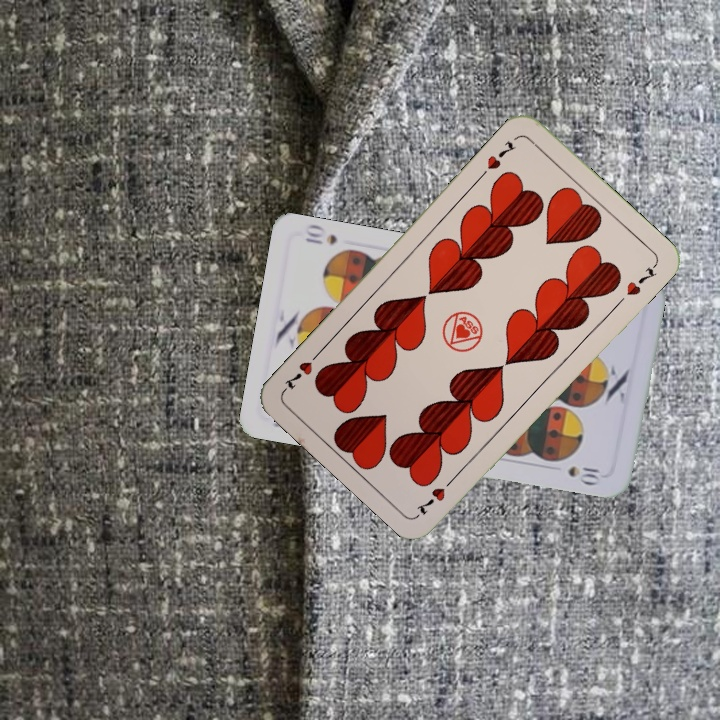H7: (413, 471, 459, 518), (475, 137, 518, 181)
